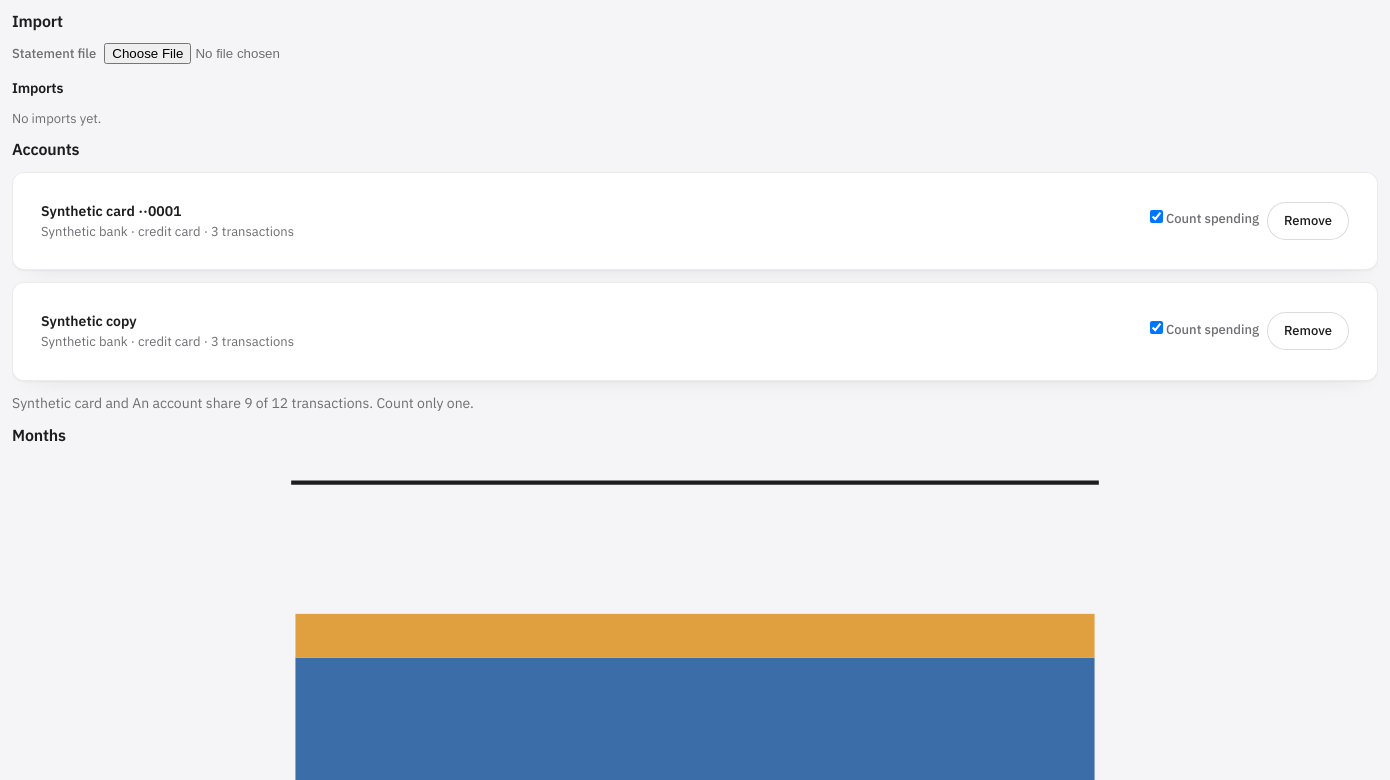
it: shows a refused removal
This screenshot has width=1390, height=780.
Expected: the text "Synthetic card ··0001" is shown, [41,202,182,220]
Click the button with aria-label "Remove Synthetic card" at [1308, 221], box [1267,202,1349,240]
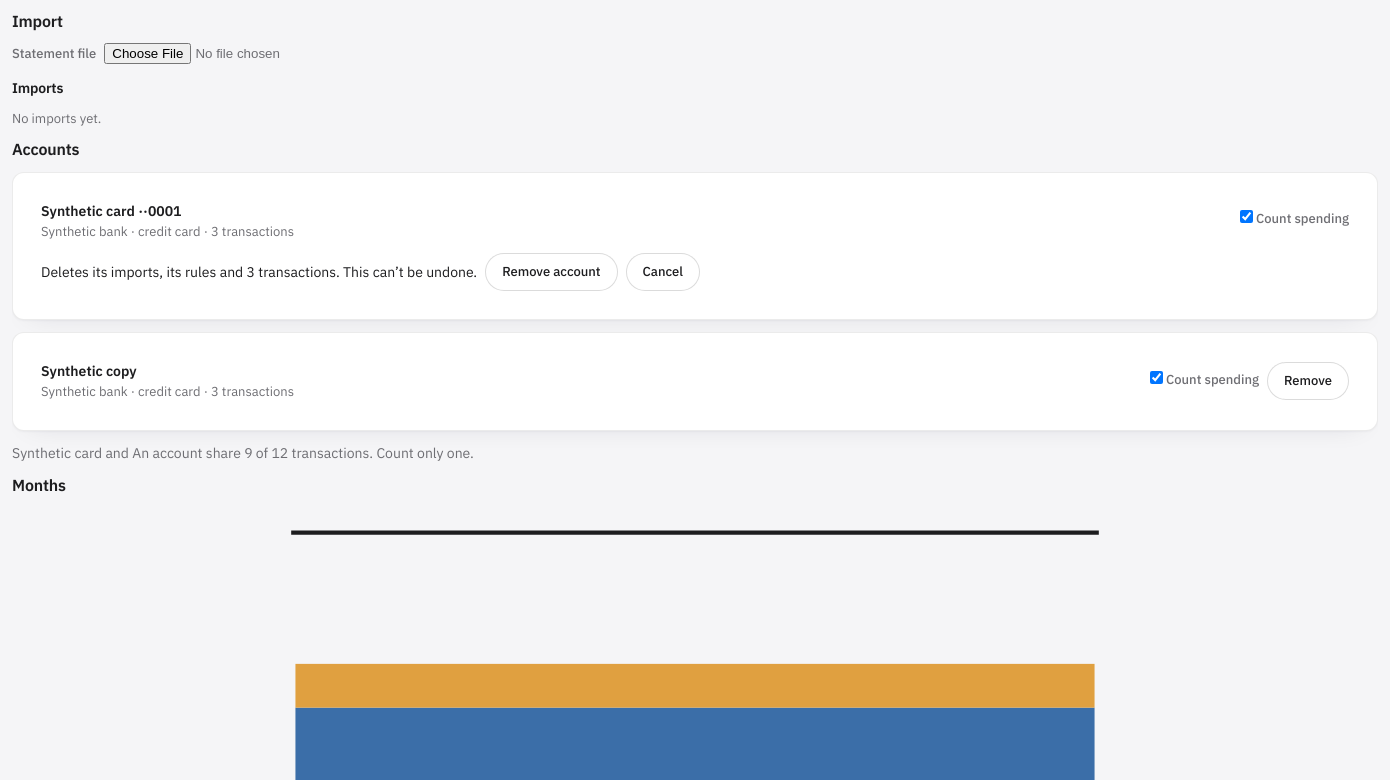
Click the button "Remove account" at [551, 272], box [485,253,618,291]
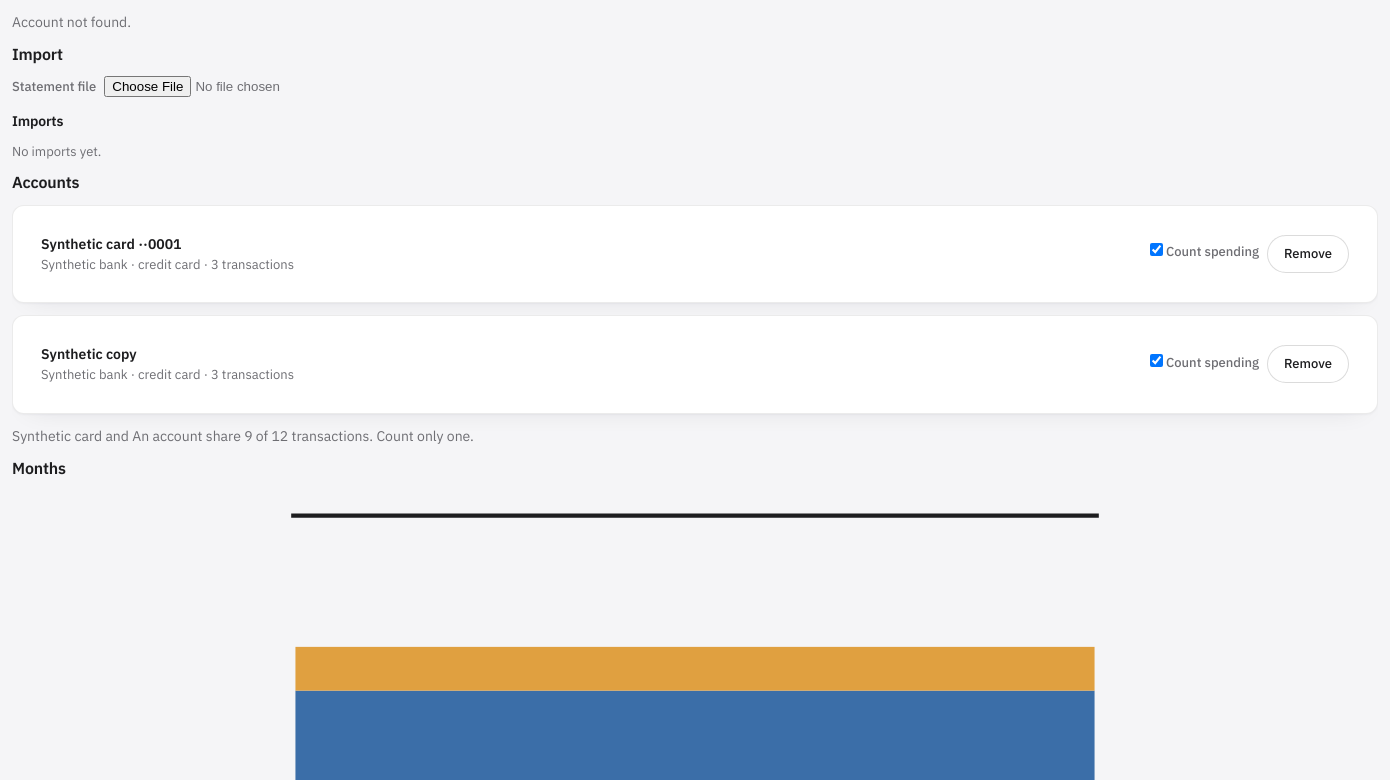
Expected: the message "Account not found." is shown, [12,13,131,31]
